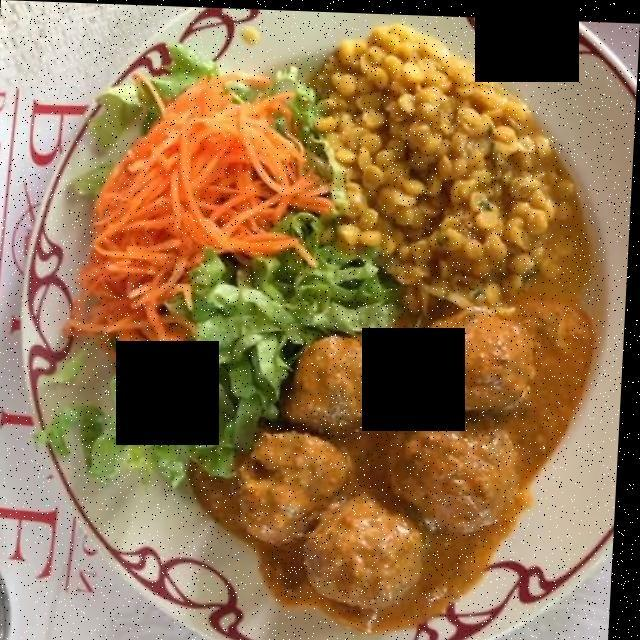carrot: (78, 72, 324, 364)
lentils: (300, 13, 597, 305)
salad: (54, 36, 396, 516)
tomato-sauce: (225, 293, 581, 631)
